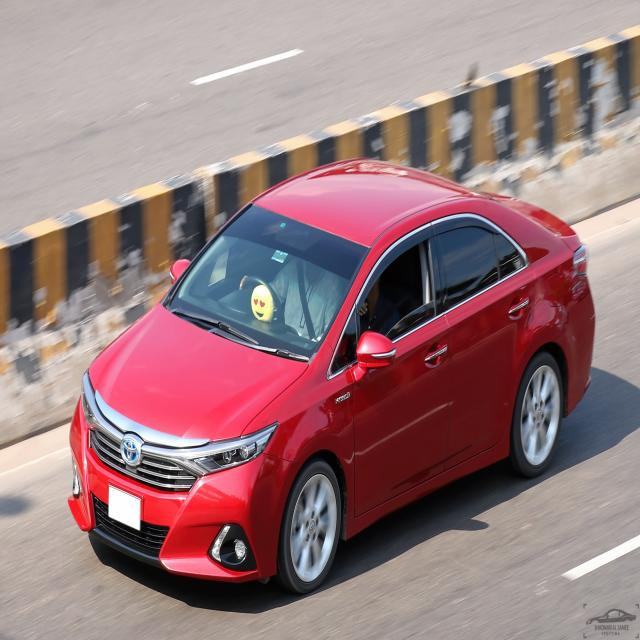red: (80, 155, 640, 589)
